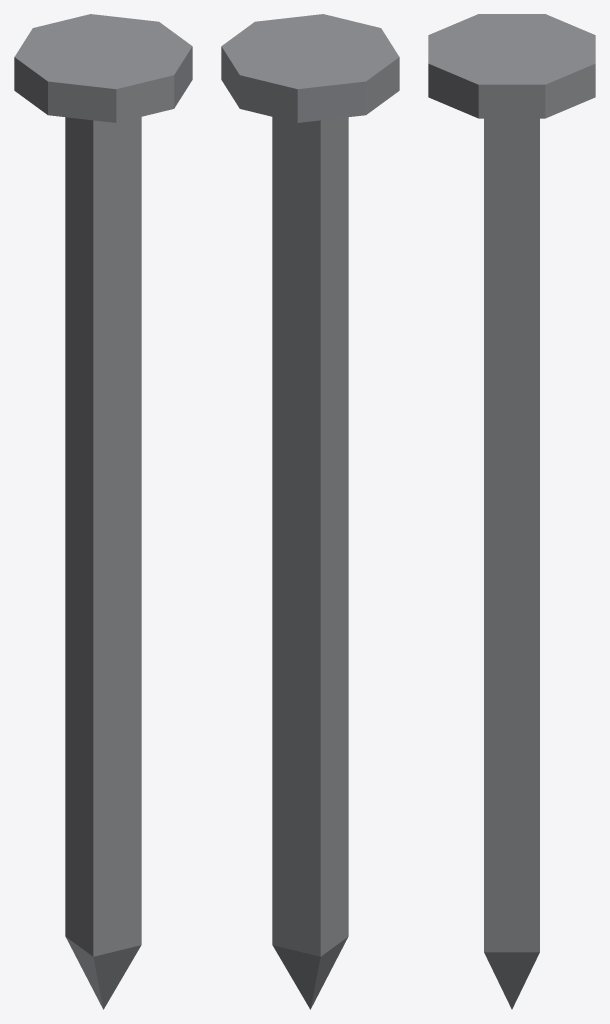
File: SM_Item_Nail_09.fbx
3 views of the same model, side by side, from view 1: azimuth 30°, elevation 25°; view 2: azimuth 150°, elevation 25°; view 3: azimuth 270°, elevation 25° (orthographic).
Parts seen in each view (by area): view 1: SM_Item_Nail_09; view 2: SM_Item_Nail_09; view 3: SM_Item_Nail_09.
Boxes of the visible parts, x1=… form: SM_Item_Nail_09: x1=14, y1=14, x2=192, y2=1009; SM_Item_Nail_09: x1=221, y1=14, x2=399, y2=1009; SM_Item_Nail_09: x1=428, y1=14, x2=595, y2=1009.
Bounding box in the file's own units: 3.68 × 23.32 × 3.68.
